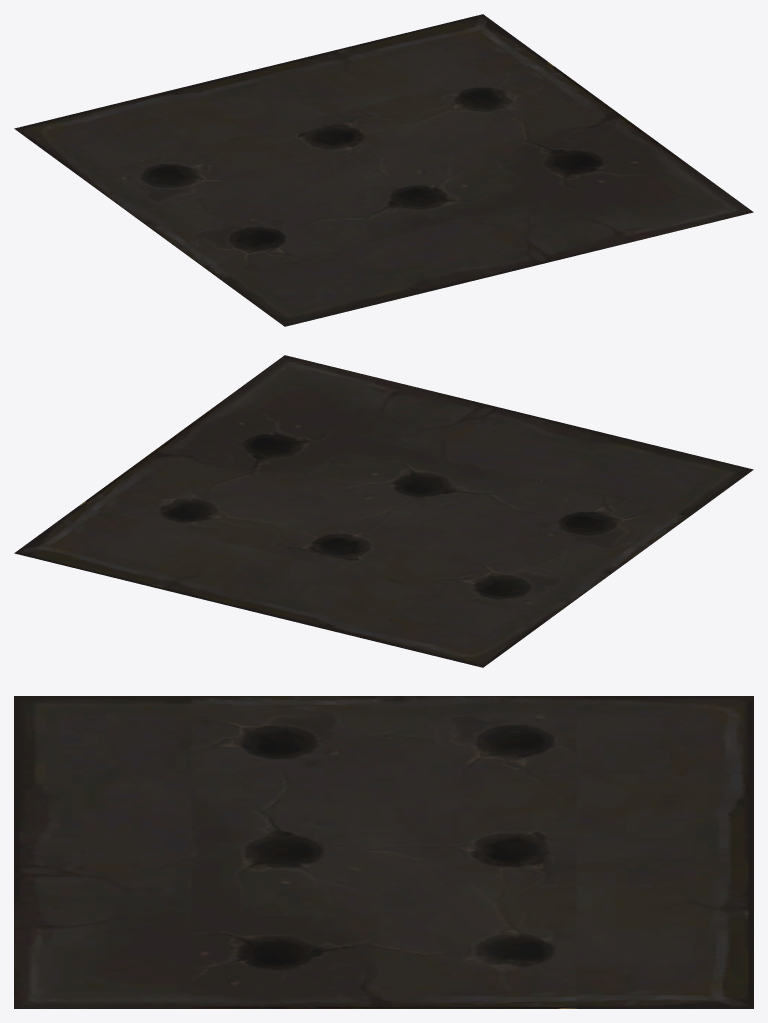
File: fortress_runner_trap_03.fbx
3 views of the same model, one above another, from view 1: azimuth 30°, elevation 25°; view 2: azimuth 150°, elevation 25°; view 3: azimuth 270°, elevation 25° (orthographic). The views are drawn at different scales.
Visible parts, largest first — view 1: fortress_runner_trap_03-0; view 2: fortress_runner_trap_03-0; view 3: fortress_runner_trap_03-0.
Part boxes in pixels (bbox=[...]): fortress_runner_trap_03-0: bbox=[14, 14, 753, 326]; fortress_runner_trap_03-0: bbox=[14, 355, 753, 667]; fortress_runner_trap_03-0: bbox=[14, 696, 753, 1008].
Size of the model in its own units: 4 by 4.24e-06 by 4.
